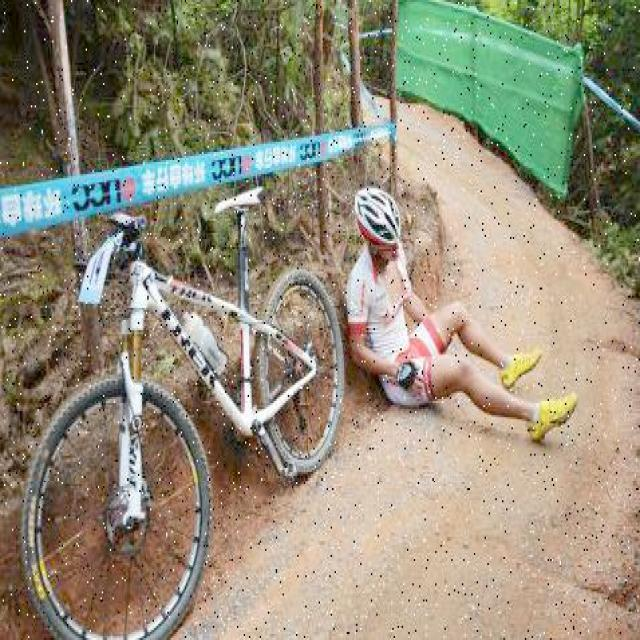fall: (350, 190, 556, 436)
